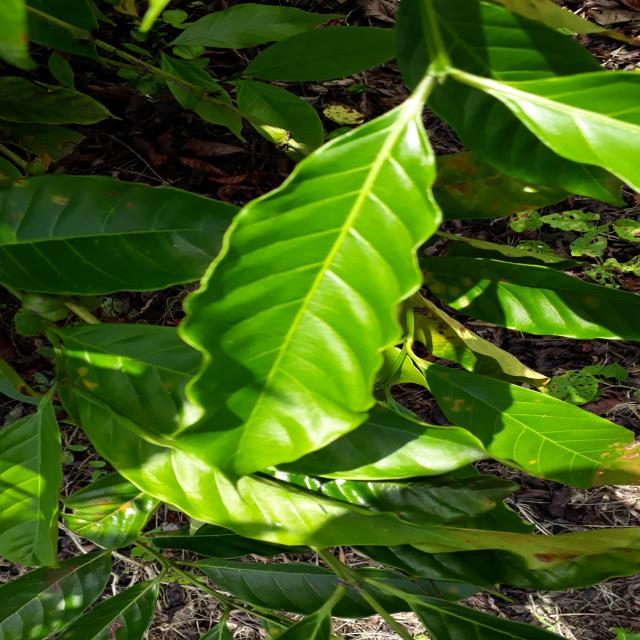Sanas: (172, 82, 444, 482)
